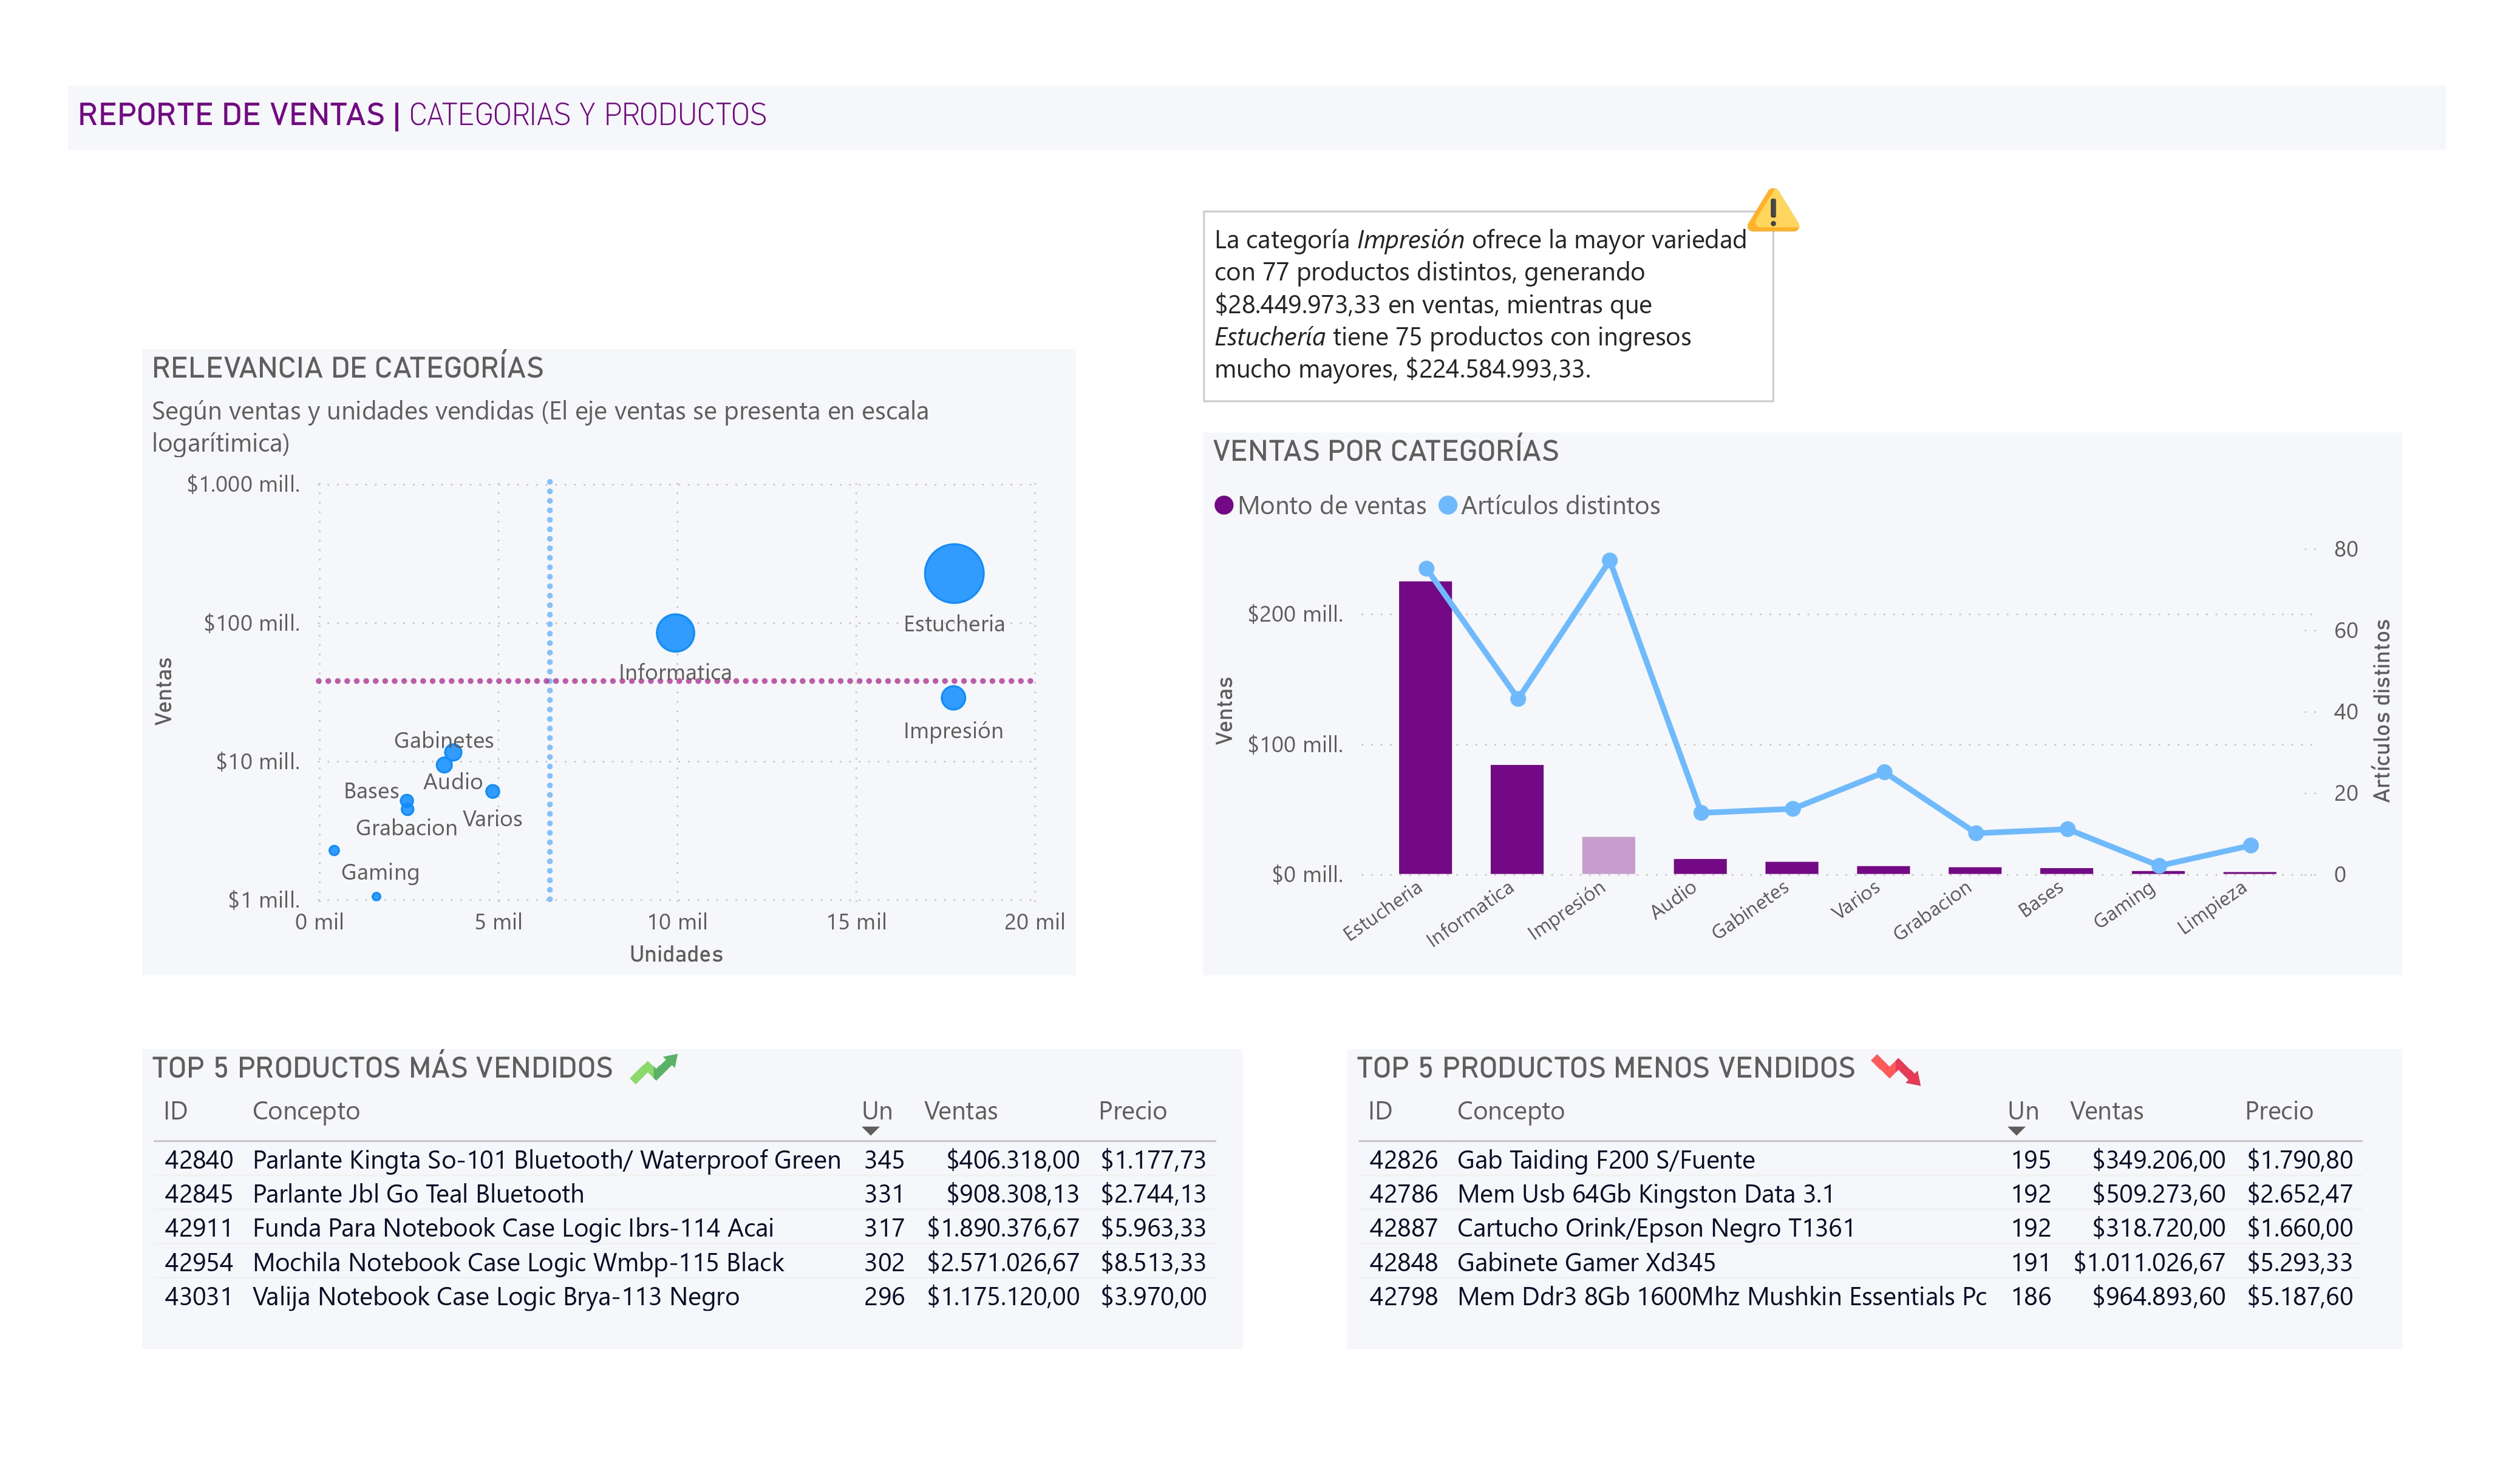

What the dashboard file says about the page in this screenshot:
{"tool":"powerbi","page":{"name":"Categorías y productos","canvas":[1280,720],"ordinal":1},"visuals":[{"type":"shape","box":[11.7,11.7,1253.3,55.5],"z":0},{"type":"lineClusteredColumnComboChart","title":"VENTAS POR CATEGORÍAS","fields":{"Y":["MEDIDAS.Ventas"],"Category":["PRODUCTOS.Categoría"],"Y2":["Count(PRODUCTOS.Concepto)"]},"box":[609.8,204.3,632,286],"z":1000},{"type":"tableEx","title":"TOP 5 PRODUCTOS MENOS VENDIDOS","fields":{"Values":["VENTAS.ID_Producto","VENTAS.Concepto","MEDIDAS.Total Unidades","MEDIDAS.Ventas","VENTAS.Precio"]},"box":[685.8,529.3,556,158],"z":2000},{"type":"textbox","box":[11.8,20.9,1253.6,34.5],"z":3000},{"type":"tableEx","title":"TOP 5 PRODUCTOS MÁS VENDIDOS","fields":{"Values":["VENTAS.ID_Producto","VENTAS.Concepto","MEDIDAS.Total Unidades","MEDIDAS.Ventas","VENTAS.Precio"]},"box":[50.8,529.3,580,158],"z":4000},{"type":"image","box":[956.8,521.4,35.8,36.7],"z":5000},{"type":"image","box":[296.8,522.3,47.5,35],"z":6000},{"type":"scatterChart","title":"RELEVANCIA DE CATEGORÍAS","fields":{"X":["MEDIDAS.Total Unidades"],"Y":["MEDIDAS.Ventas"],"Size":["MEDIDAS.Ventas"],"Category":["VENTAS.Categoría"]},"box":[50.8,160.3,492,330],"z":7000},{"type":"textbox","box":[610,87.3,300.9,100.9],"z":8000},{"type":"image","box":[890.9,67.3,39.1,39.1],"z":9000}]}

Visuals, with their boxes on the page's 1280x720 design canvas (x1, y1, x2, y2). These are canvas units, not pixel positions in the 2520x1457 screenshot, which may show the page scaled, cropped or inside an application window:
shape: rect(12, 12, 1265, 67)
"VENTAS POR CATEGORÍAS" lineClusteredColumnComboChart: rect(610, 204, 1242, 490)
"TOP 5 PRODUCTOS MENOS VENDIDOS" tableEx: rect(686, 529, 1242, 687)
textbox: rect(12, 21, 1265, 55)
"TOP 5 PRODUCTOS MÁS VENDIDOS" tableEx: rect(51, 529, 631, 687)
image: rect(957, 521, 993, 558)
image: rect(297, 522, 344, 557)
"RELEVANCIA DE CATEGORÍAS" scatterChart: rect(51, 160, 543, 490)
textbox: rect(610, 87, 911, 188)
image: rect(891, 67, 930, 106)
